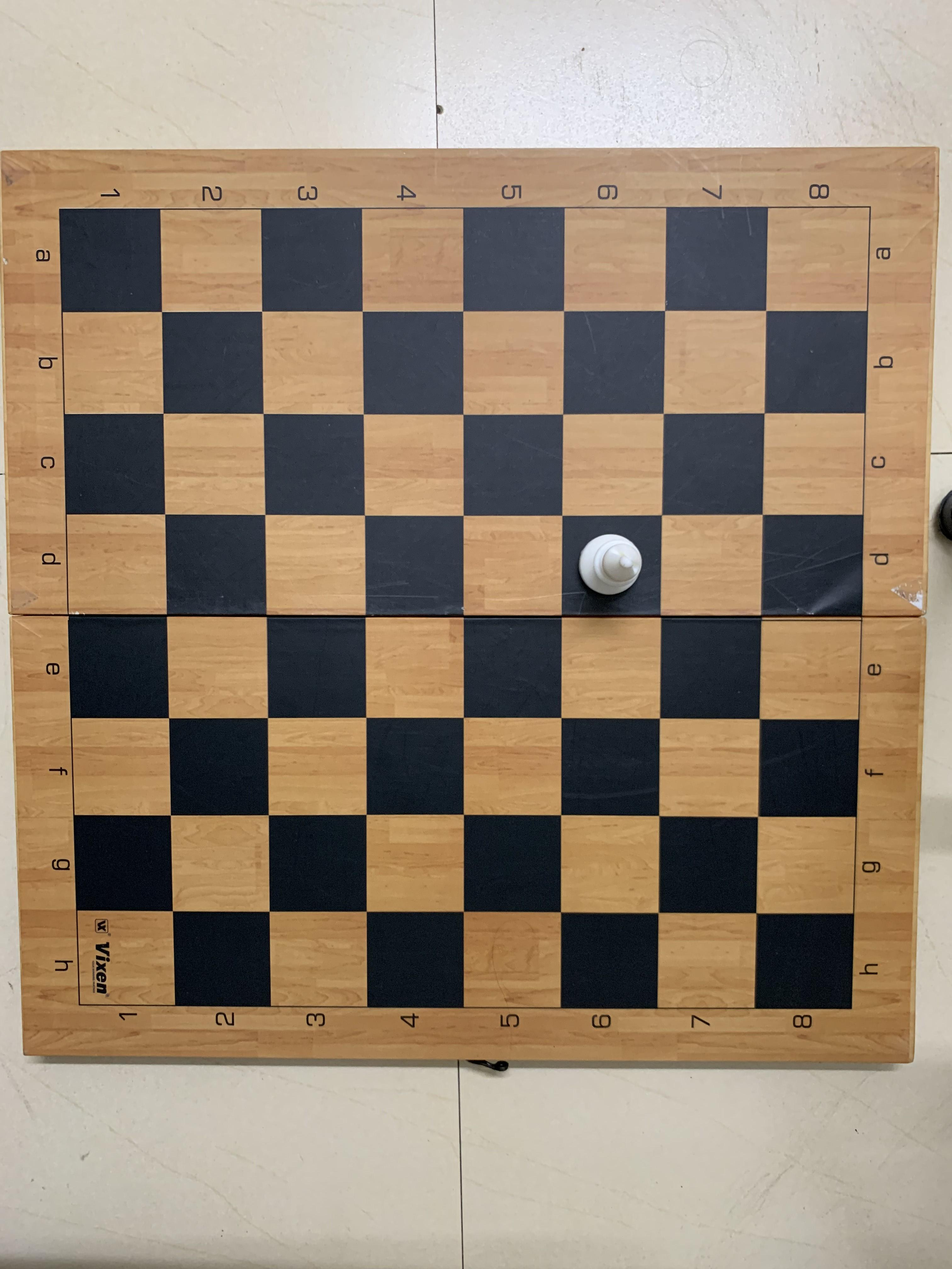white_bishop: (560, 515, 661, 615)
